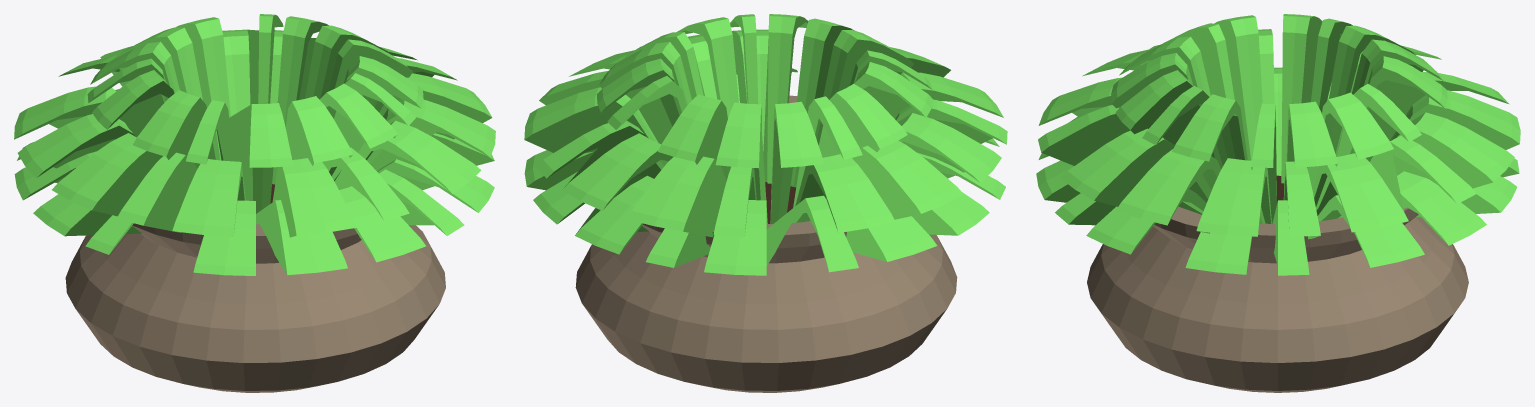
Rendered from potted_plant2.fbx.
The picture shows the model from 3 angles, left to right: view 1: azimuth 30°, elevation 25°; view 2: azimuth 150°, elevation 25°; view 3: azimuth 270°, elevation 25°; orthographic projection.
Parts seen in each view (by area): view 1: Plant, Pot; view 2: Plant, Pot; view 3: Plant, Pot.
Part boxes in pixels (bbox=[...]): Plant: bbox=[14, 14, 495, 275]; Pot: bbox=[65, 223, 445, 392]; Plant: bbox=[524, 14, 1007, 275]; Pot: bbox=[575, 95, 957, 392]; Plant: bbox=[1036, 14, 1520, 275]; Pot: bbox=[1087, 206, 1468, 392].
Size of the model in its own units: 253 by 162 by 254.
